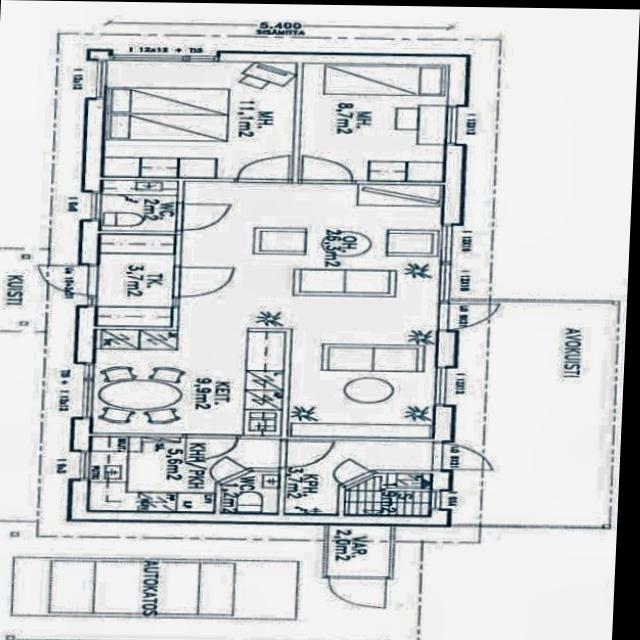room: (102, 61, 294, 180), (299, 64, 447, 181), (88, 437, 278, 513), (284, 439, 431, 516), (344, 473, 431, 517), (102, 181, 175, 231), (219, 470, 278, 515)
